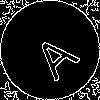A: (25, 25, 82, 82)
